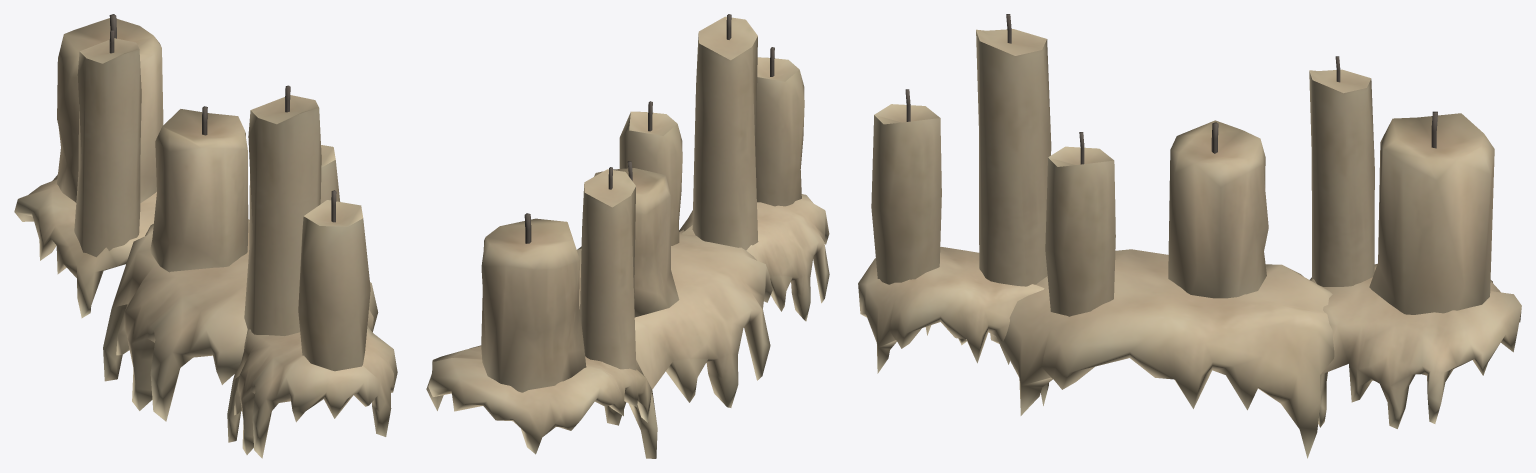
Rendered from SM_Candles_6.fbx.
3 renders of one model, left to right at view 1: azimuth 30°, elevation 25°; view 2: azimuth 150°, elevation 25°; view 3: azimuth 270°, elevation 25°, orthographic. The views are drawn at different scales.
Parts seen in each view (by area): view 1: SM_Candles_6_LOD0; view 2: SM_Candles_6_LOD0; view 3: SM_Candles_6_LOD0.
Boxes of the visible parts, x1,y1,x2,y2 form: SM_Candles_6_LOD0: (14,14,397,458); SM_Candles_6_LOD0: (426,14,829,458); SM_Candles_6_LOD0: (858,14,1521,458).
Bounding box in the file's own units: 25.69 × 62.58 × 42.46.
